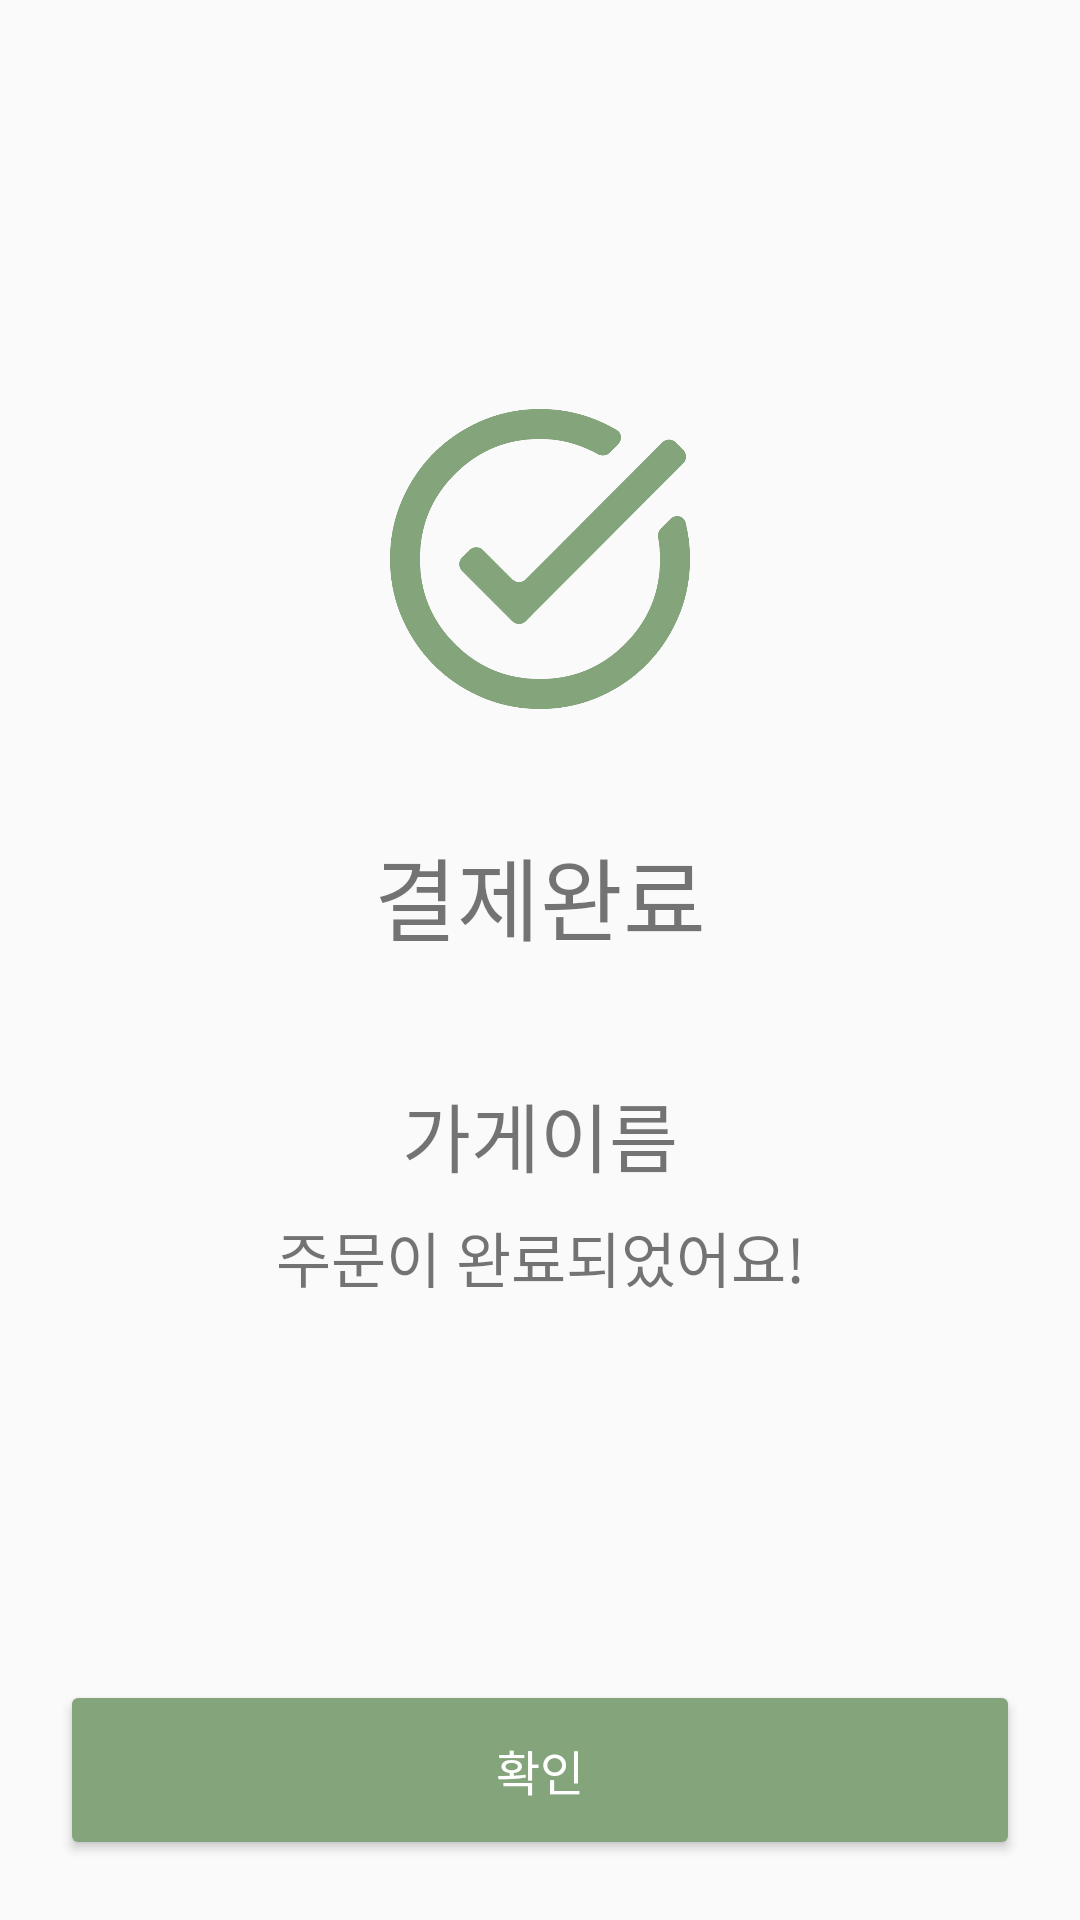

Locate icon controls on the screen. Image size 1080 × 1920, boxes as Rect(x1, y1, x2, y2).
check: Rect(390, 409, 690, 709)
